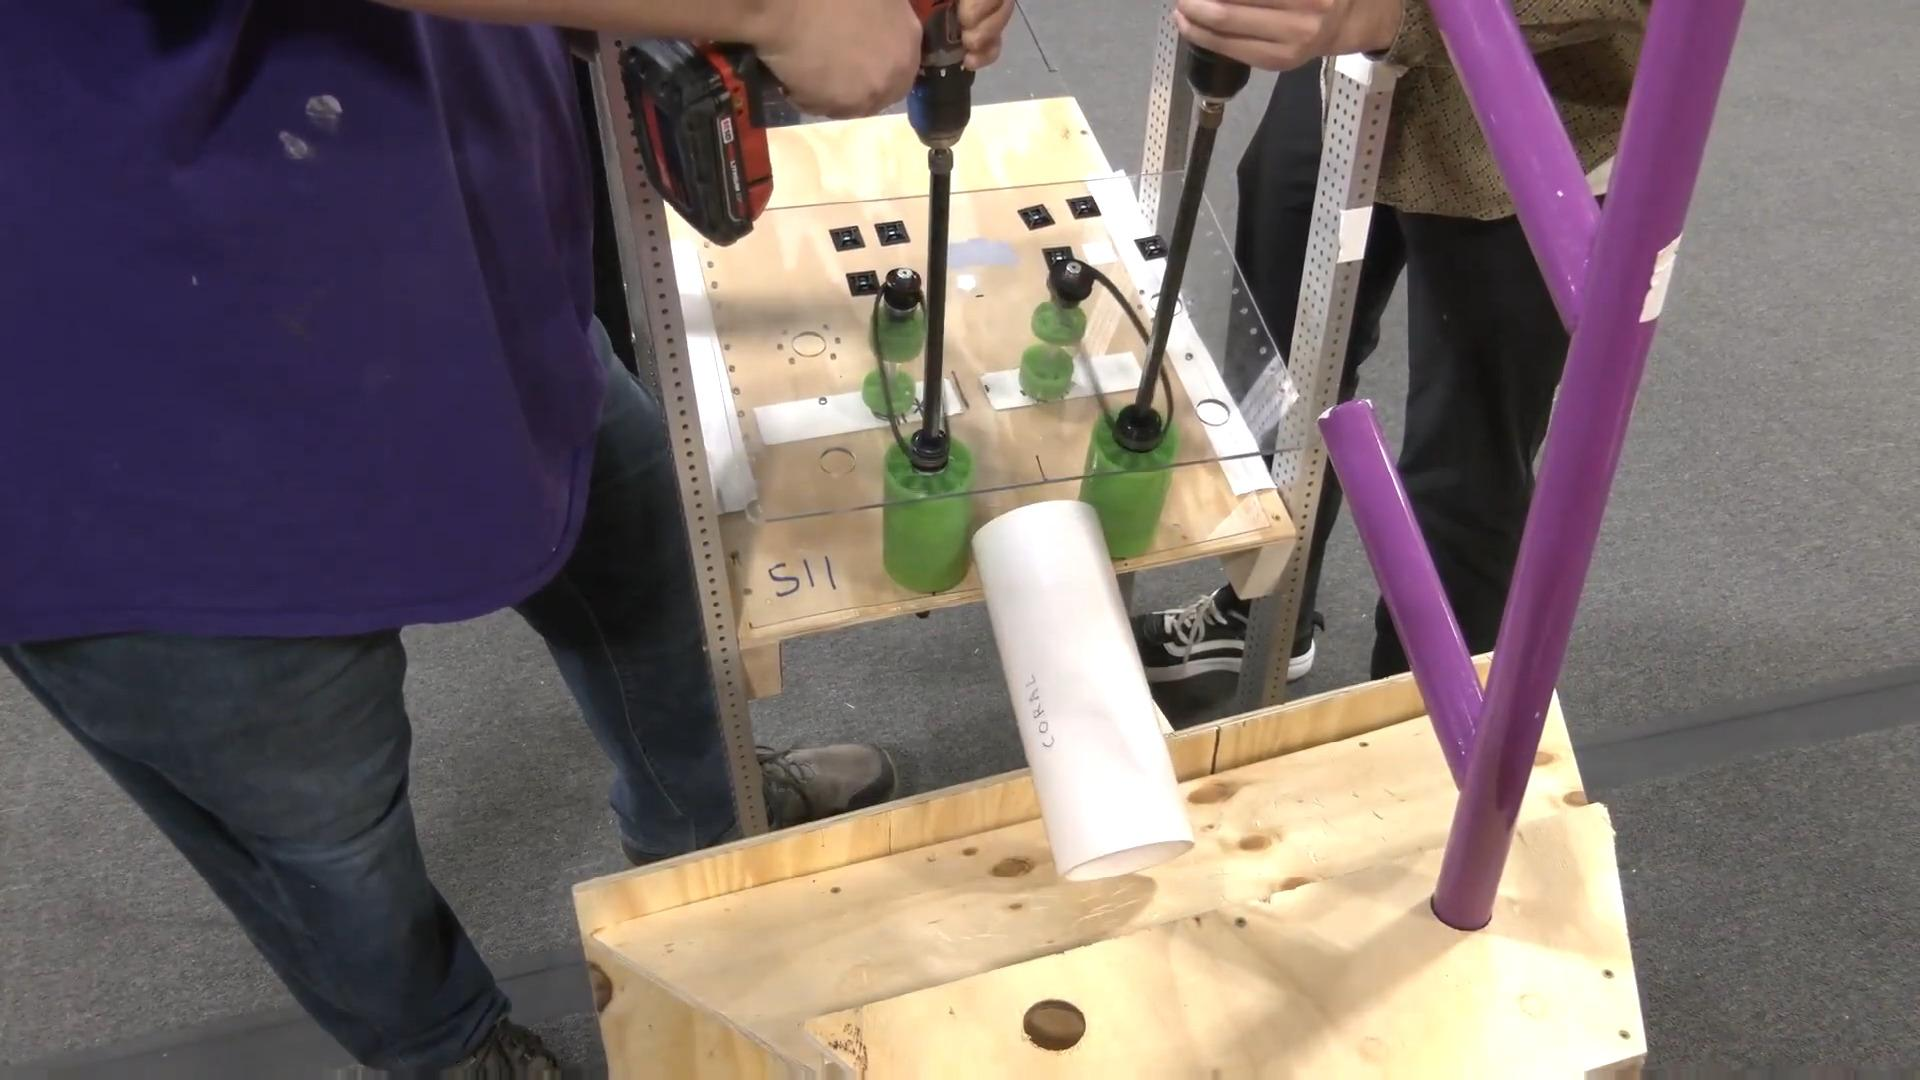coral: (972, 500, 1195, 882)
